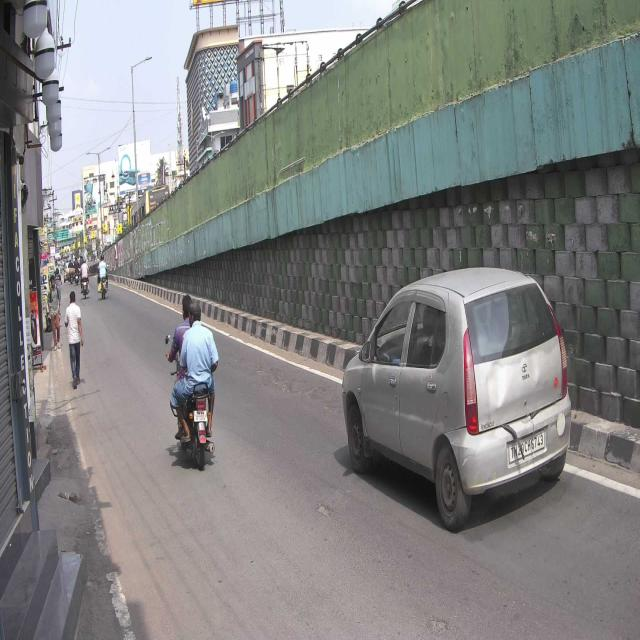double_rider: (166, 294, 219, 471)
